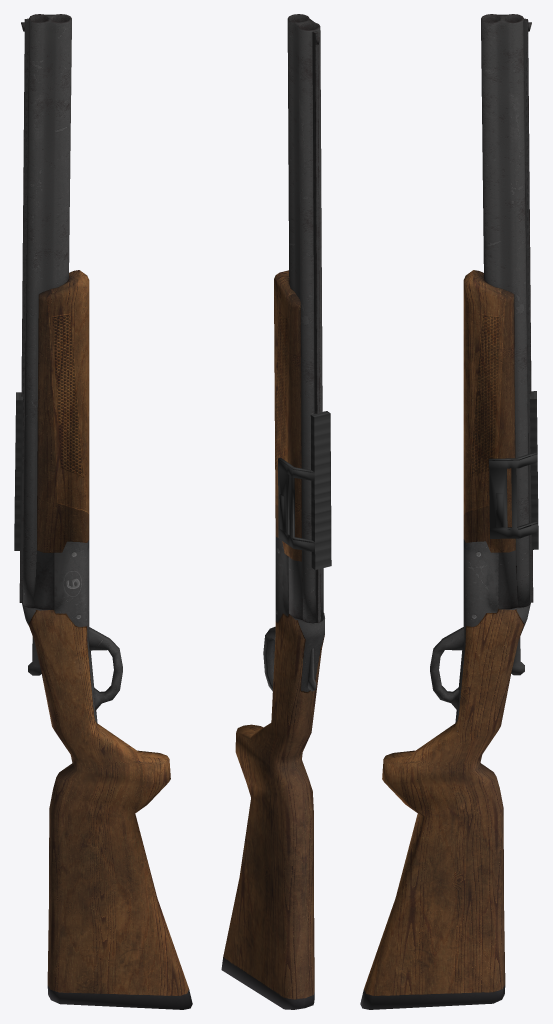
Rendered from TLOG_DoubleBarrelShotgun.fbx.
3 views of the same model, side by side, from view 1: azimuth 90°, elevation 25°; view 2: azimuth 210°, elevation 25°; view 3: azimuth 270°, elevation 25° (orthographic).
Parts seen in each view (by area): view 1: DoubleBarrel; view 2: DoubleBarrel; view 3: DoubleBarrel.
Part boxes in pixels (<box>): DoubleBarrel: <box>14,14,192,1009</box>; DoubleBarrel: <box>221,14,331,1009</box>; DoubleBarrel: <box>360,14,538,1009</box>.
Size of the model in its own units: 0.023 by 0.6021 by 0.0988.
